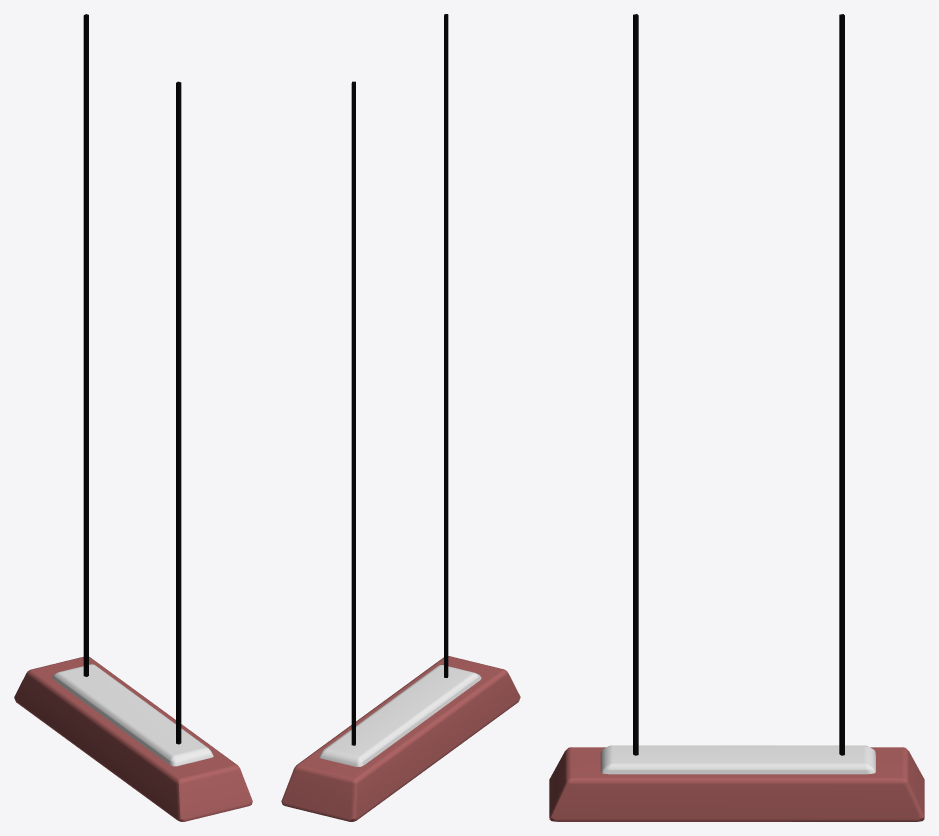
The model's file is SM_RoofLamp.fbx.
The picture shows the model from 3 angles, left to right: view 1: azimuth 30°, elevation 25°; view 2: azimuth 150°, elevation 25°; view 3: azimuth 270°, elevation 25°; orthographic projection. The views are drawn at different scales.
Parts seen in each view (by area): view 1: Lamp; view 2: Lamp; view 3: Lamp.
Boxes of the visible parts, x1=… form: Lamp: x1=14, y1=14, x2=252, y2=821; Lamp: x1=281, y1=14, x2=520, y2=821; Lamp: x1=549, y1=14, x2=924, y2=821.
Bounding box in the file's own units: 38.97 × 351 × 151.
